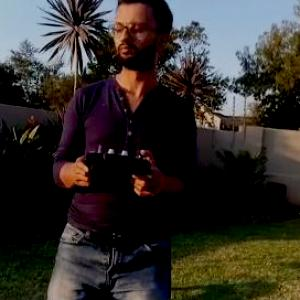follow: (46, 0, 198, 299)
